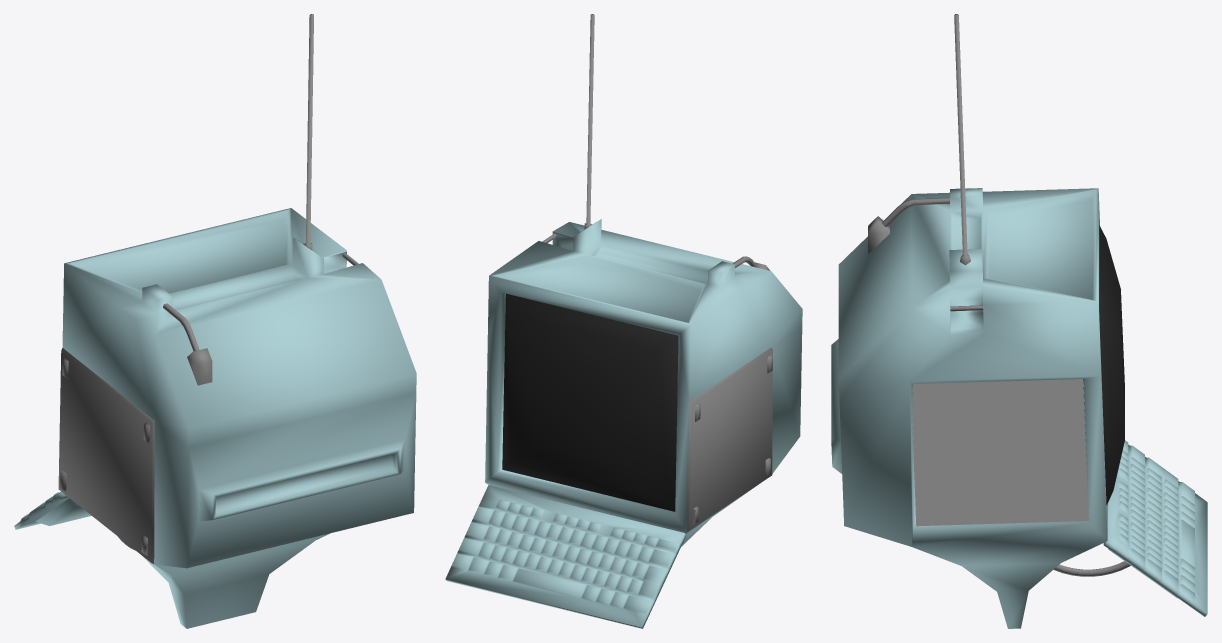
The model's file is TvBot.fbx.
3 renders of one model, left to right at view 1: azimuth 30°, elevation 25°; view 2: azimuth 150°, elevation 25°; view 3: azimuth 270°, elevation 25°, orthographic. The views are drawn at different scales.
Visible parts, largest first — view 1: Tube, Metal; view 2: Tube, Screen, Metal; view 3: Tube, Metal, Screen.
Boxes of the visible parts, left/top/right/bottom form: Tube: left=14, top=208, right=416, bottom=628; Metal: left=58, top=14, right=358, bottom=564; Tube: left=445, top=219, right=802, bottom=628; Screen: left=502, top=293, right=678, bottom=511; Metal: left=542, top=14, right=772, bottom=531; Tube: left=831, top=188, right=1207, bottom=628; Metal: left=868, top=14, right=1130, bottom=576; Screen: left=1099, top=225, right=1124, bottom=505.
Bounding box in the file's own units: 90.21 × 226 × 123.
